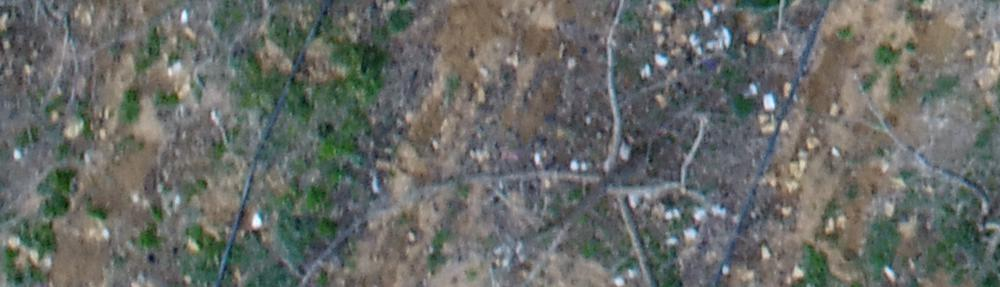apple: (796, 65, 990, 277)
